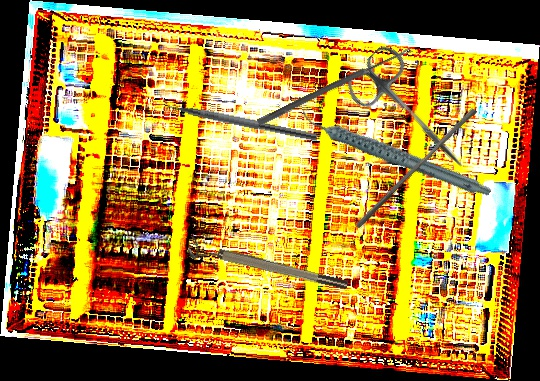Chopper: (152, 91, 322, 142)
Fixation Ring: (186, 236, 349, 299)
Handpiece: (298, 73, 494, 232)
Iris Scissors: (339, 40, 487, 188)
Pusher: (354, 103, 478, 234)
Surgical Spoon: (256, 45, 414, 127)
